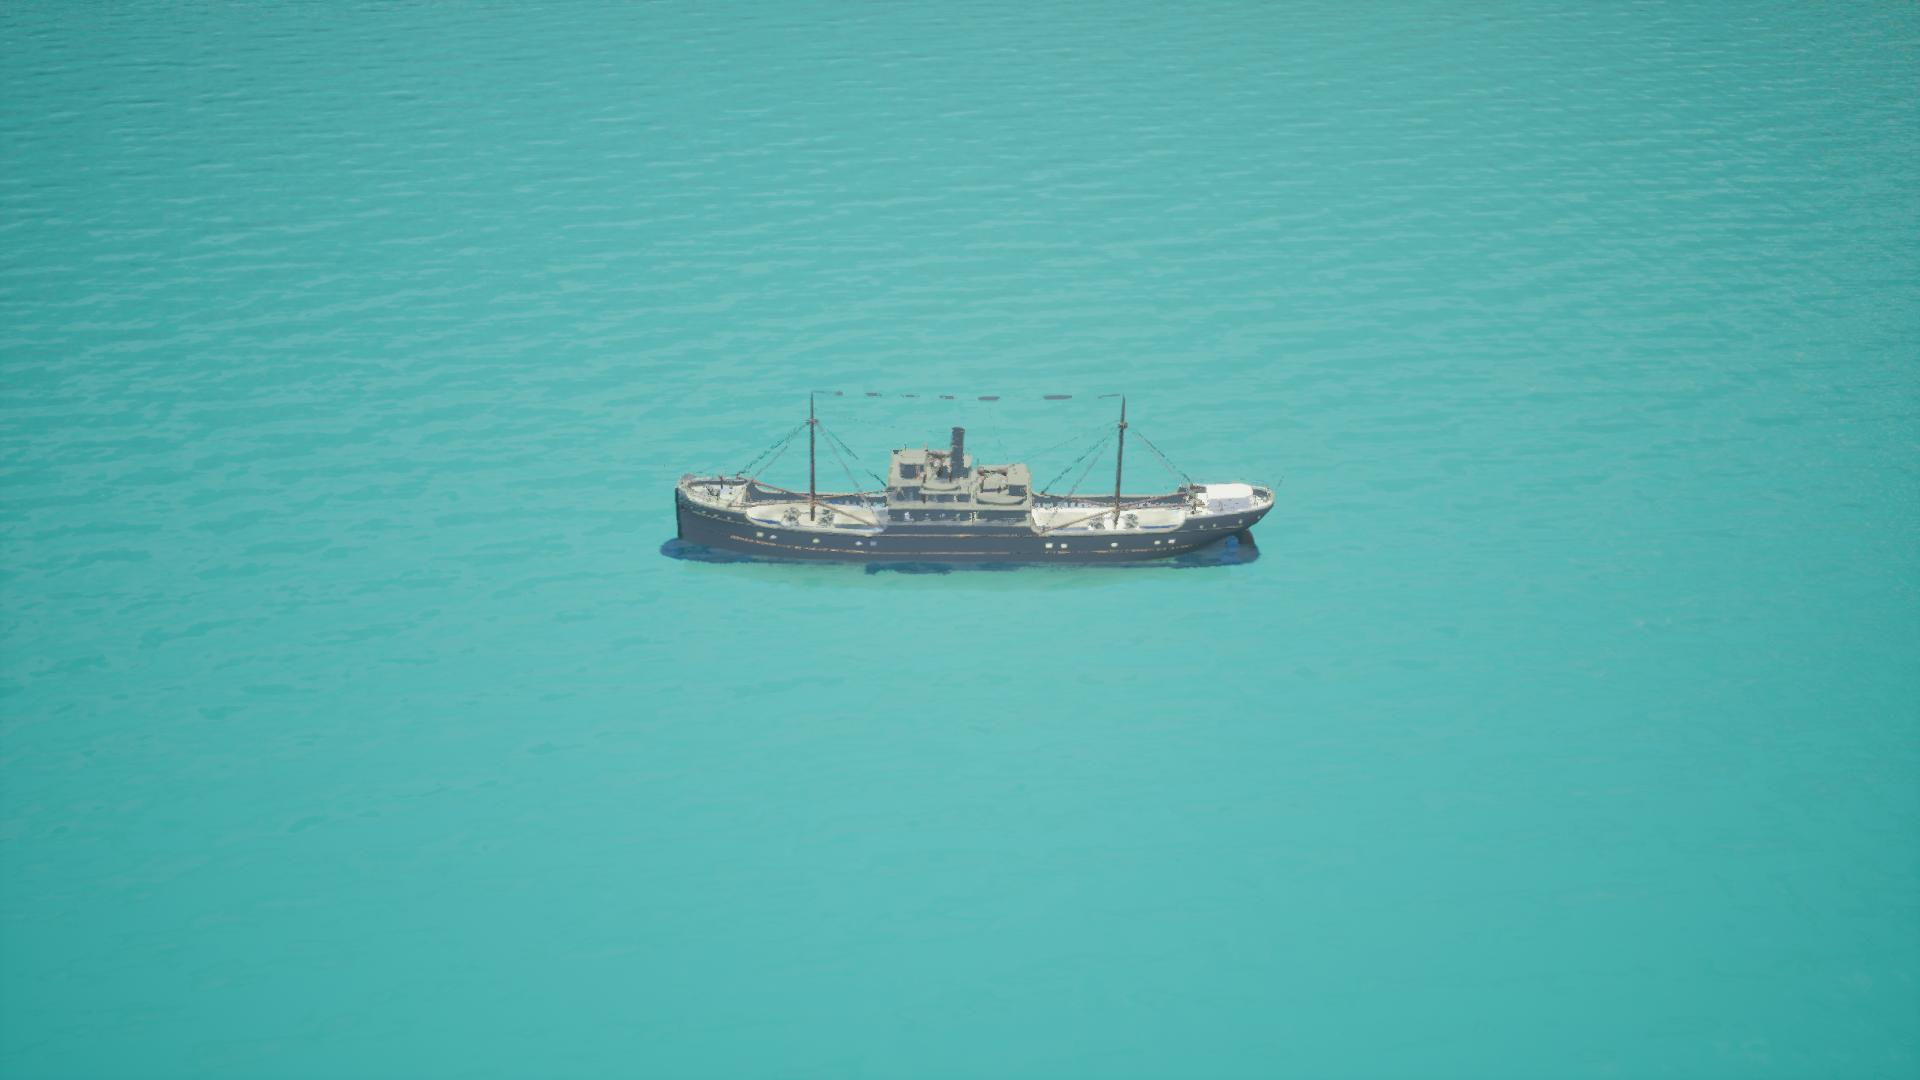Fishing Boat: (670, 396, 1266, 568)
